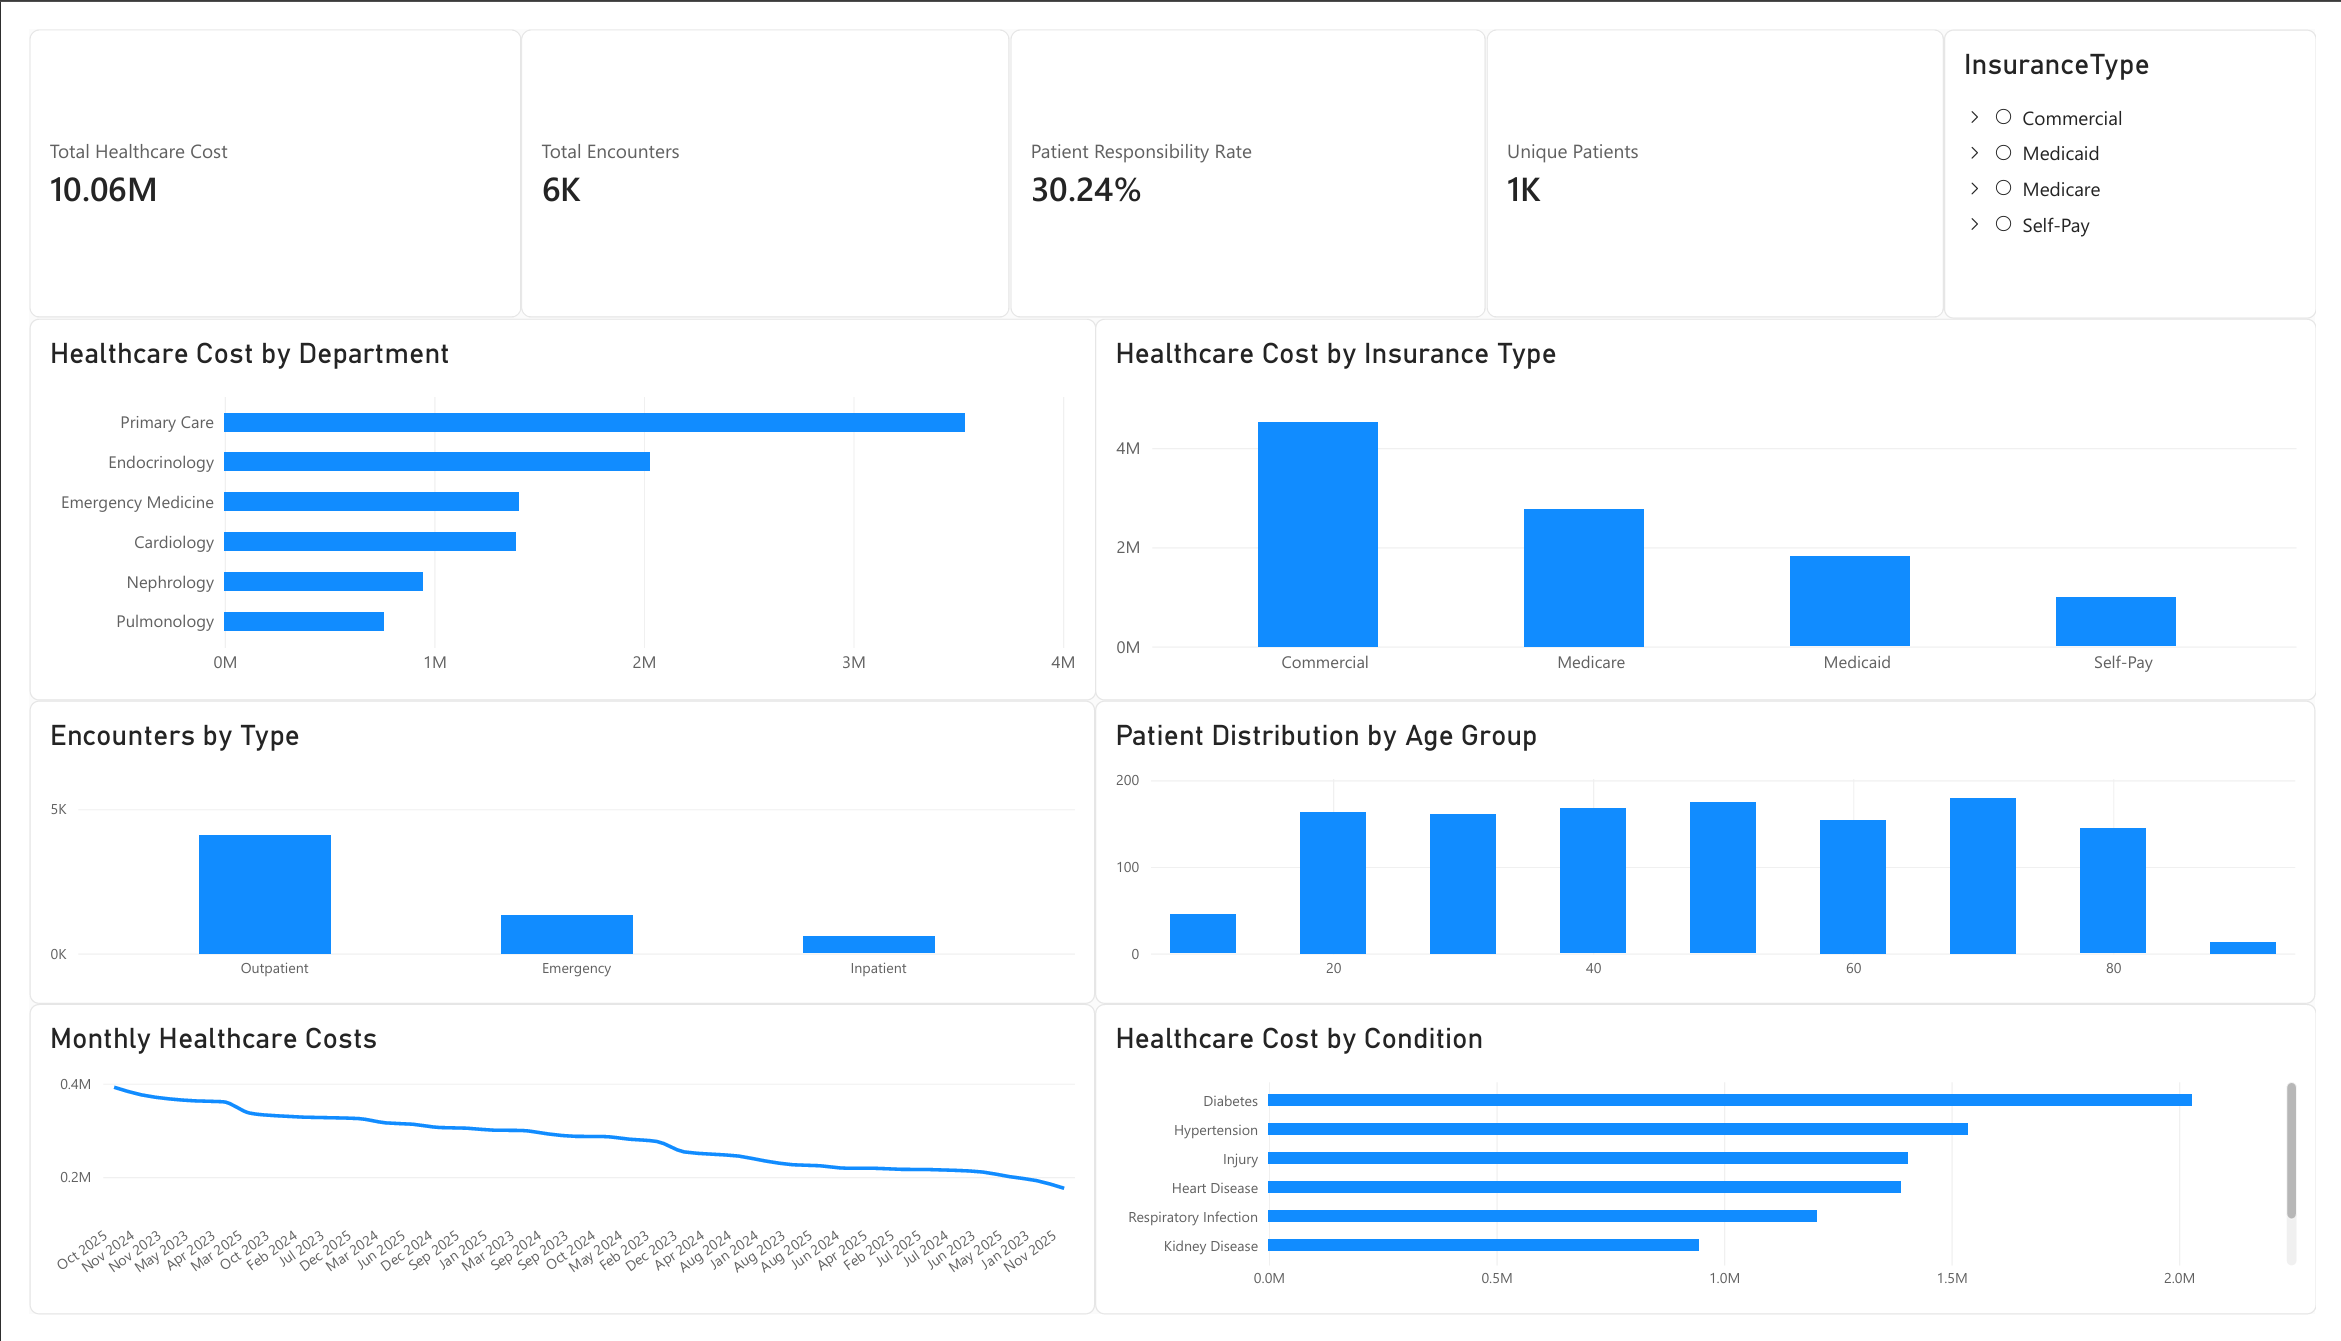

What the dashboard file says about the page in this screenshot:
{"tool":"powerbi","page":{"name":"Healthcare Overview","canvas":[1920,1080],"ordinal":0},"visuals":[{"type":"cardVisual","fields":{"Data":["Encounters.Total Healthcare Cost"]},"box":[0,0,448.1,242.9],"z":0},{"type":"cardVisual","fields":{"Data":["Encounters.Total Encounters"]},"box":[448.1,0,446.6,242.9],"z":1000},{"type":"cardVisual","fields":{"Data":["Encounters.Unique Patients"]},"box":[1365.3,0,384.7,242.9],"z":2000},{"type":"clusteredBarChart","title":"Healthcare Cost by Department","fields":{"Category":["Encounters.Department"],"Y":["Sum(Encounters.TotalCost)"]},"box":[0,242.9,896.1,321.3],"z":3000},{"type":"lineChart","title":"Monthly Healthcare Costs","fields":{"Category":["Encounters.EncounterDate.Variation.Date Hierarchy.Month"],"Y":["Sum(Encounters.TotalCost)"]},"box":[0,819.2,894.6,261],"z":4000},{"type":"listSlicer","fields":{"Values":["Patients.InsuranceType"]},"box":[1750,0,170.5,242.9],"z":5000},{"type":"barChart","title":"Healthcare Cost by Condition","fields":{"Category":["Encounters.Condition"],"Y":["Sum(Encounters.TotalCost)"]},"box":[894.6,819.2,1025.9,261],"z":6000},{"type":"cardVisual","title":"Patient Responsibility Rate","fields":{"Data":["Encounters.Patient Responsibility Rate"]},"box":[896.1,0,469.2,242.9],"z":7000},{"type":"clusteredColumnChart","title":"Healthcare Cost by Insurance Type","fields":{"Category":["Patients.InsuranceType"],"Y":["Sum(Encounters.TotalCost)"]},"box":[894.6,242.9,1025.9,321.3],"z":8000},{"type":"clusteredColumnChart","title":"Encounters by Type","fields":{"Category":["Encounters.EncounterType"],"Y":["CountNonNull(Encounters.EncounterID)"]},"box":[0,564.2,894.6,255],"z":9000},{"type":"clusteredColumnChart","title":"Patient Distribution by Age Group","fields":{"Category":["Patients.Age (bins)"],"Y":["CountNonNull(Patients.PatientID)"]},"box":[895,564,1025,255],"z":10000}]}

Visuals, with their boxes in screenshot pixels (x1, y1, x2, y2), scaled from the page's 1920x1080 canvas onto the 2341x1341 screenshot:
cardVisual - Encounters.Total Healthcare Cost: box(0, 0, 546, 302)
cardVisual - Encounters.Total Encounters: box(546, 0, 1091, 302)
cardVisual - Encounters.Unique Patients: box(1665, 0, 2134, 302)
"Healthcare Cost by Department" clusteredBarChart: box(0, 302, 1093, 701)
"Monthly Healthcare Costs" lineChart: box(0, 1017, 1091, 1340)
listSlicer - Patients.InsuranceType: box(2134, 0, 2340, 302)
"Healthcare Cost by Condition" barChart: box(1091, 1017, 2340, 1340)
"Patient Responsibility Rate" cardVisual: box(1093, 0, 1665, 302)
"Healthcare Cost by Insurance Type" clusteredColumnChart: box(1091, 302, 2340, 701)
"Encounters by Type" clusteredColumnChart: box(0, 701, 1091, 1017)
"Patient Distribution by Age Group" clusteredColumnChart: box(1091, 700, 2340, 1017)
